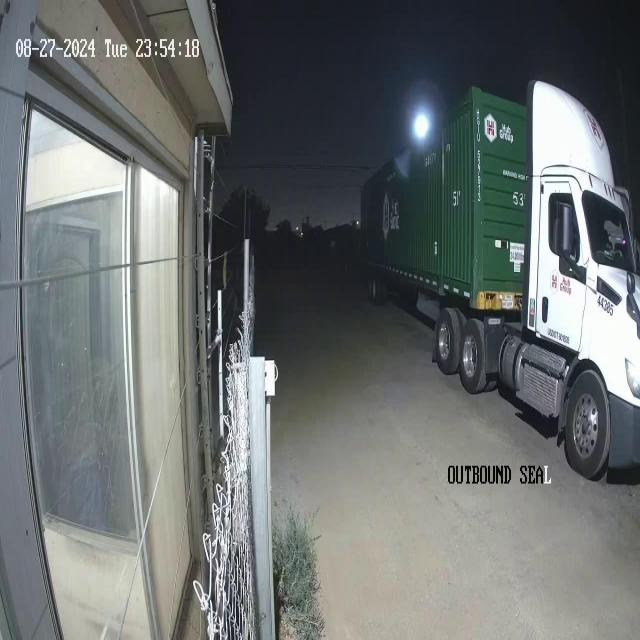TRUCK_IN: (359, 78, 639, 481)
